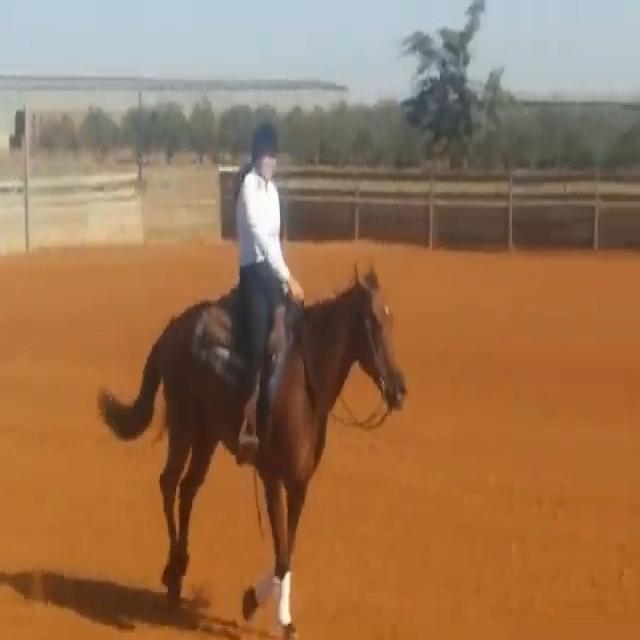horse: (96, 261, 408, 635)
